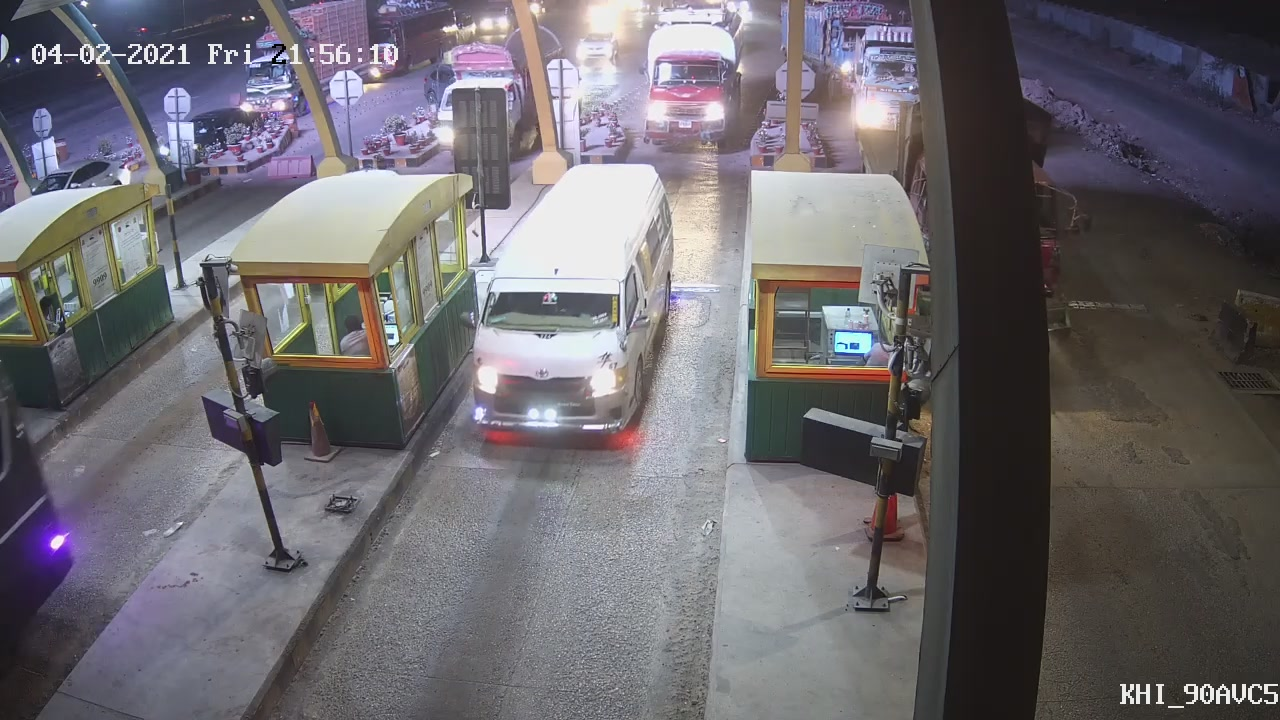F2: (454, 159, 683, 444)
